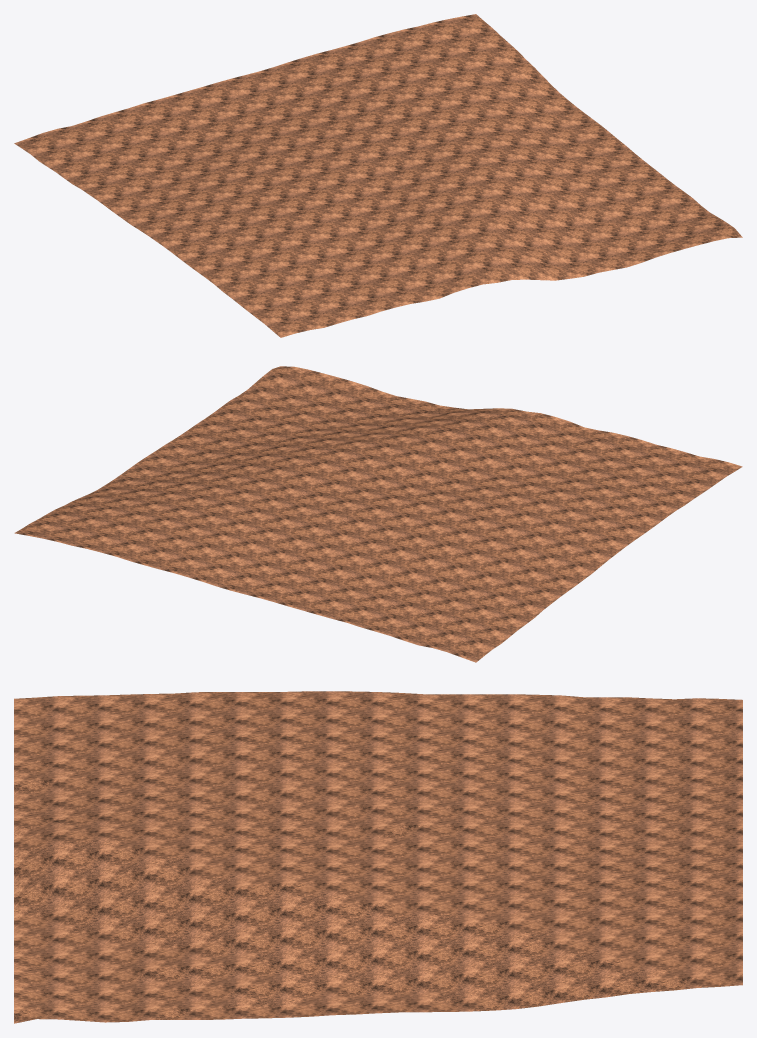
File: terrain_07_18.dae
The picture shows the model from 3 angles, top to bottom: view 1: azimuth 30°, elevation 25°; view 2: azimuth 150°, elevation 25°; view 3: azimuth 270°, elevation 25°; orthographic projection. The views are drawn at different scales.
Parts seen in each view (by area): view 1: terrain_07_18-node; view 2: terrain_07_18-node; view 3: terrain_07_18-node.
Part boxes in pixels (x1,y1,x2,y2): terrain_07_18-node: (14, 14, 742, 337); terrain_07_18-node: (14, 366, 742, 662); terrain_07_18-node: (14, 691, 742, 1023).
Bounding box in the file's own units: 128 × 128 × 8.48.
Materials: 1 (1 with a texture image).
